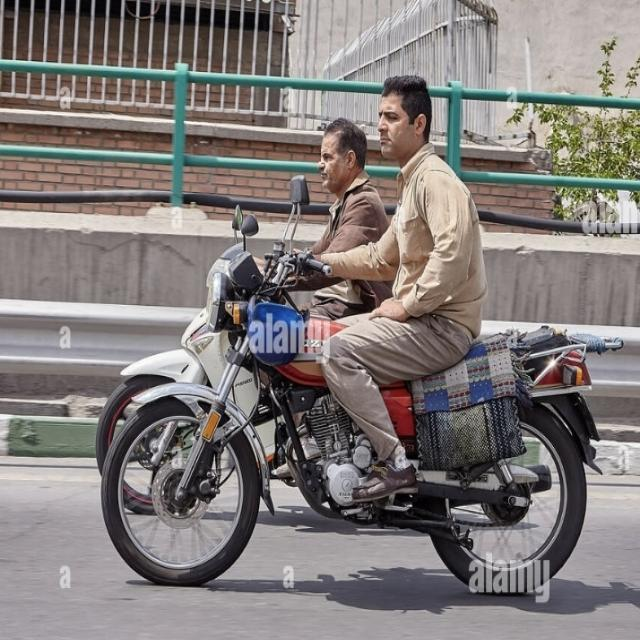WithoutHelmet: (303, 77, 490, 504), (308, 119, 393, 324)
